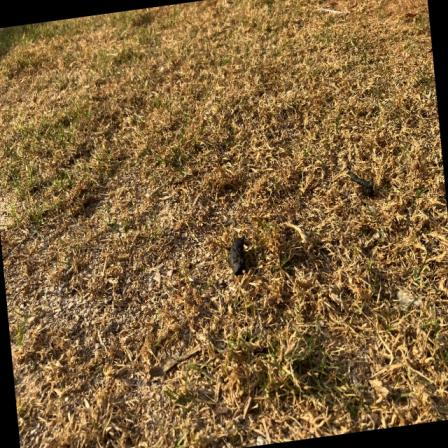dog-poop: (212, 234, 256, 279)
